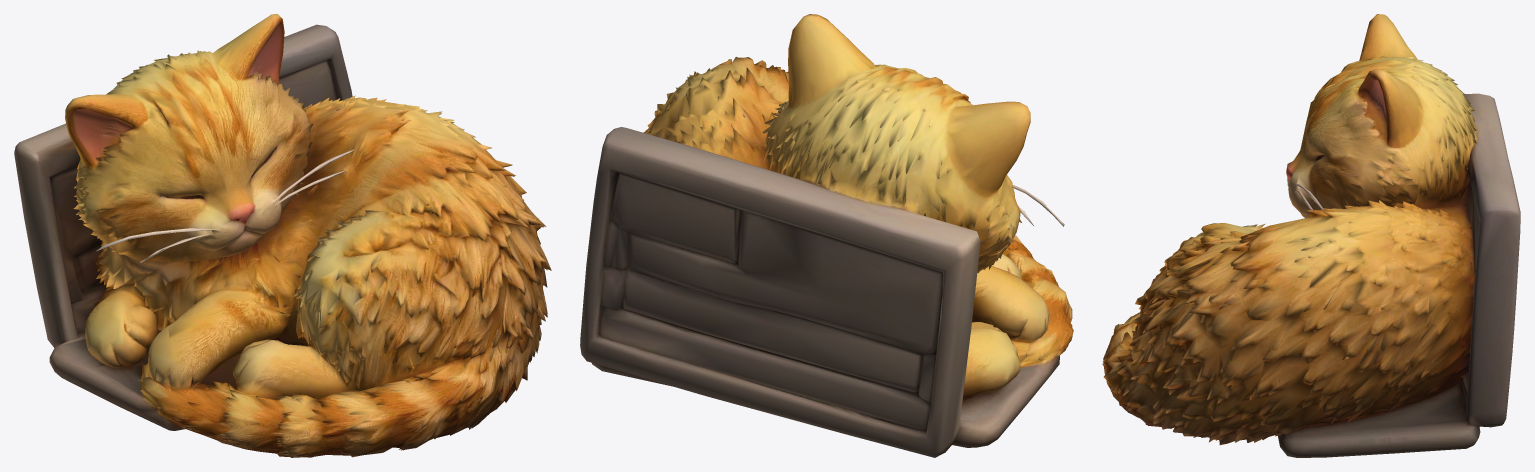
The model's file is cat.glb.
The picture shows the model from 3 angles, left to right: view 1: azimuth 30°, elevation 25°; view 2: azimuth 150°, elevation 25°; view 3: azimuth 270°, elevation 25°; orthographic projection. The views are drawn at different scales.
Visible parts, largest first — view 1: tripo_node_36f072b2-df3a-4e7b-a195-dacfe24c5b20; view 2: tripo_node_36f072b2-df3a-4e7b-a195-dacfe24c5b20; view 3: tripo_node_36f072b2-df3a-4e7b-a195-dacfe24c5b20.
Part boxes in pixels (x1,y1,x2,y2): tripo_node_36f072b2-df3a-4e7b-a195-dacfe24c5b20: (14,14,551,457); tripo_node_36f072b2-df3a-4e7b-a195-dacfe24c5b20: (580,14,1073,457); tripo_node_36f072b2-df3a-4e7b-a195-dacfe24c5b20: (1102,14,1520,457).
Bounding box in the file's own units: 0.9792 × 0.7789 × 0.9335.
1 material, 1 textured.
